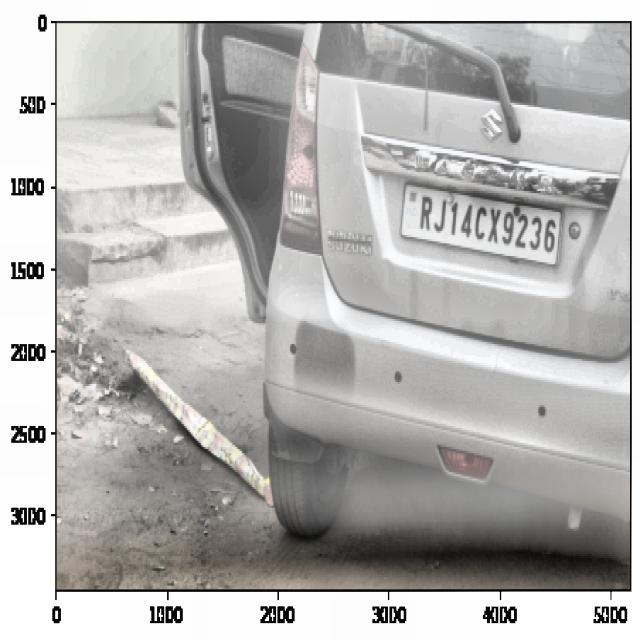license_plate: (414, 190, 560, 264)
